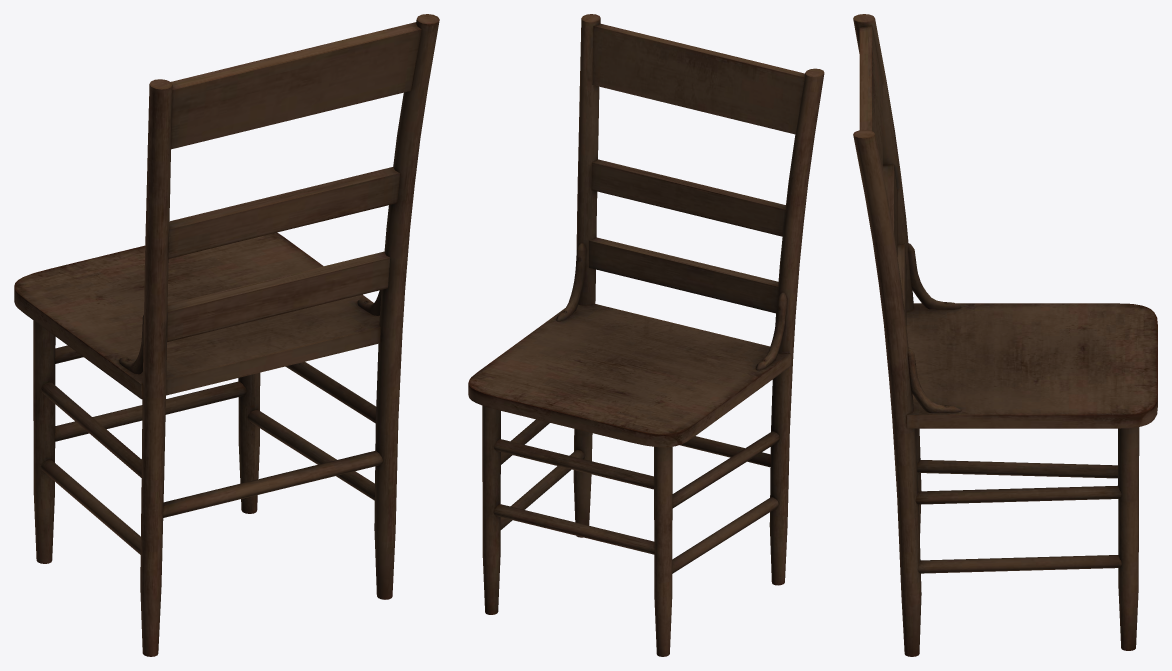
Rendered from pub_chair.glb.
3 renders of one model, left to right at view 1: azimuth 30°, elevation 25°; view 2: azimuth 150°, elevation 25°; view 3: azimuth 270°, elevation 25°, orthographic. The views are drawn at different scales.
Parts seen in each view (by area): view 1: pub_chair; view 2: pub_chair; view 3: pub_chair.
Boxes of the visible parts, x1,y1,x2,y2 form: pub_chair: (14,14,439,656); pub_chair: (468,14,824,656); pub_chair: (853,14,1157,656).
Size of the model in its own units: 0.4655 by 0.92 by 0.482.
1 material, 1 textured.
